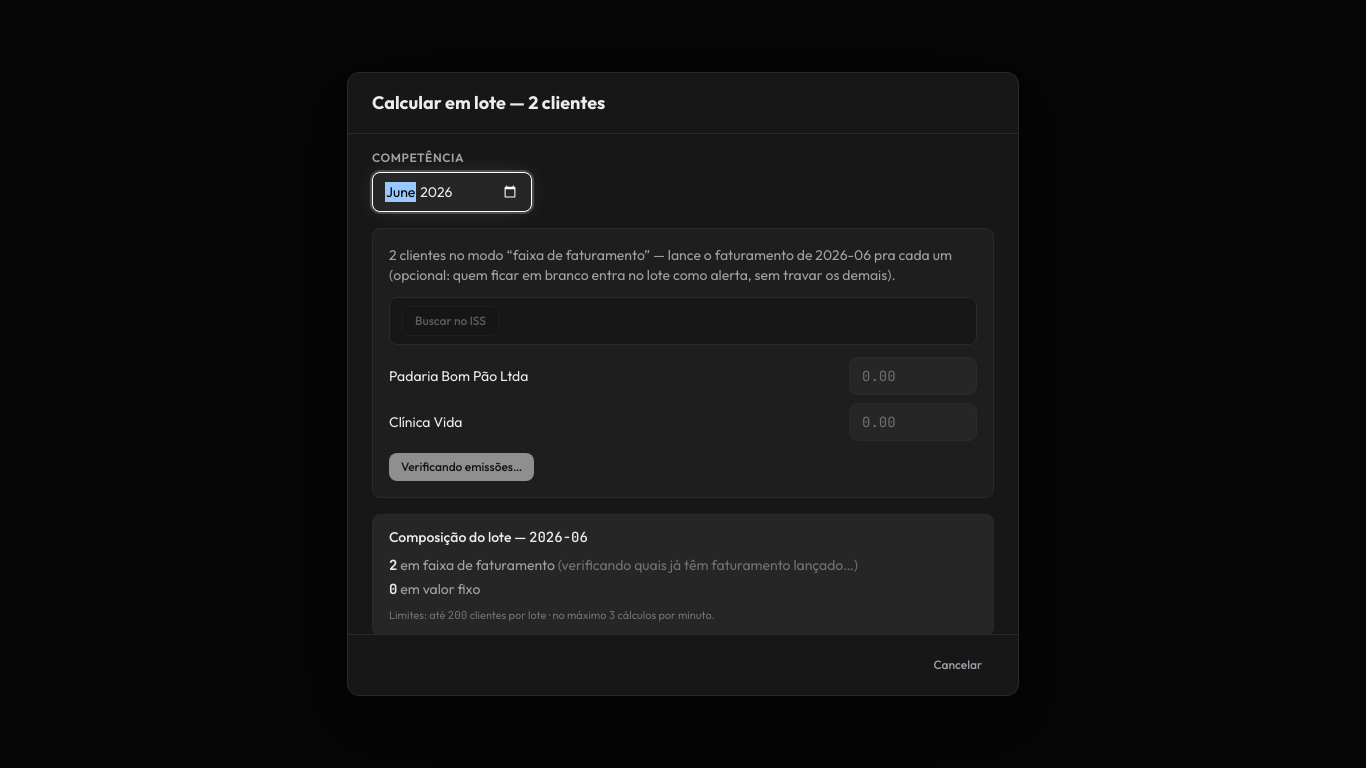
Scenario: LoteContabilidadeDialog — lançamento de faturamento em massa (Story 12.4) › AC 1: com pelo menos um lançamento OK o passo avança (sem regressão no caminho feliz)
Type "4500" into the number field with placeholder "0.00" in the row of "Padaria Bom Pão Ltda". click: (913, 376)
box: [849,357,977,395]
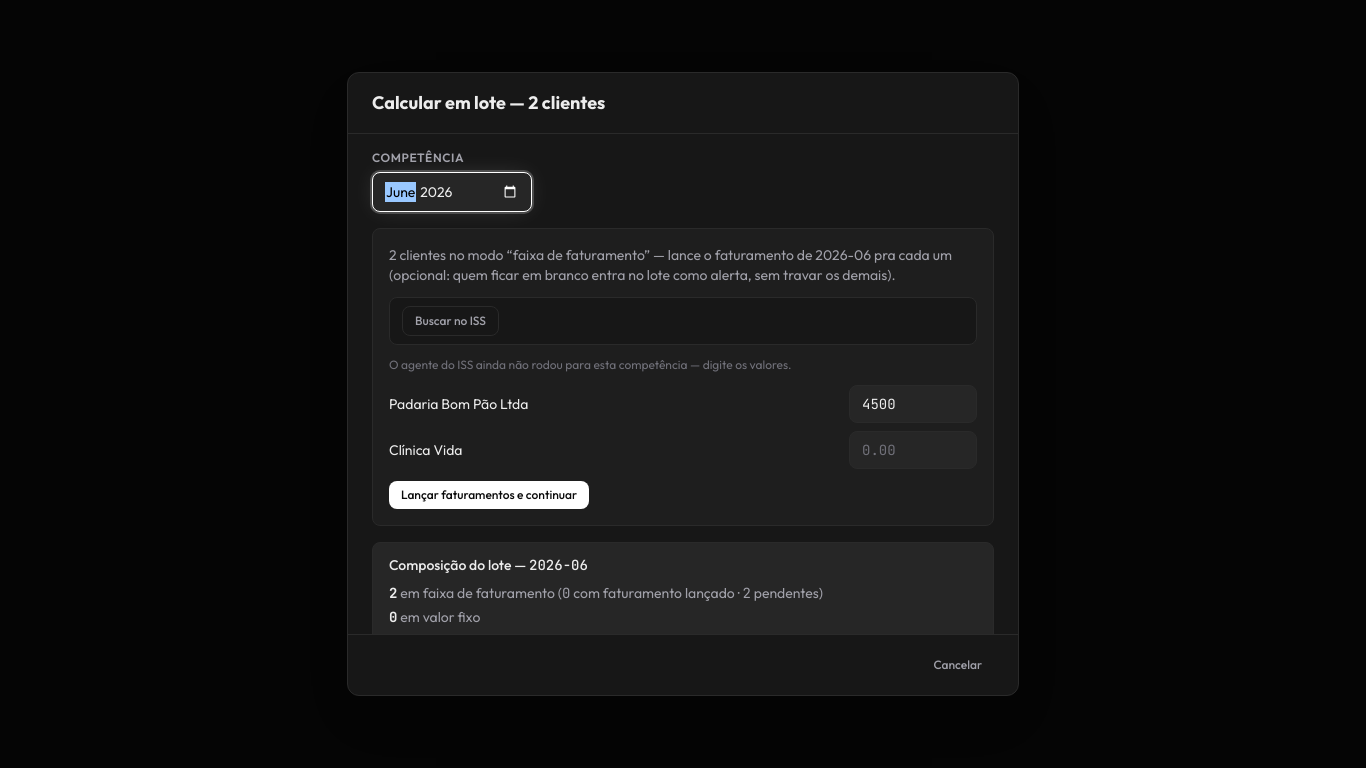
Type "9000" into the number field with placeholder "0.00". click: (913, 450)
box: [849,431,977,469]
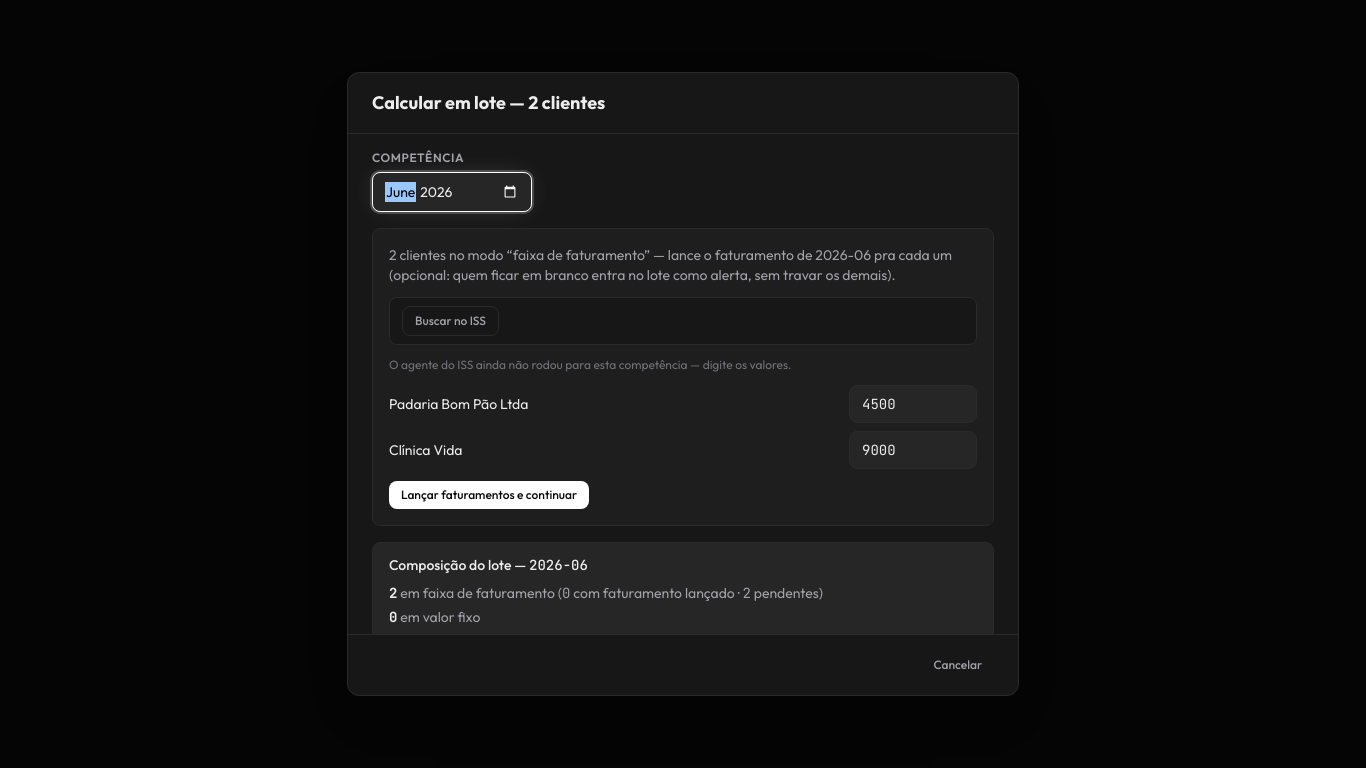
Expected: the button "Lançar faturamentos e continuar" is enabled
Click the button "Lançar faturamentos e continuar". click: (489, 495)
box: [389,481,589,509]
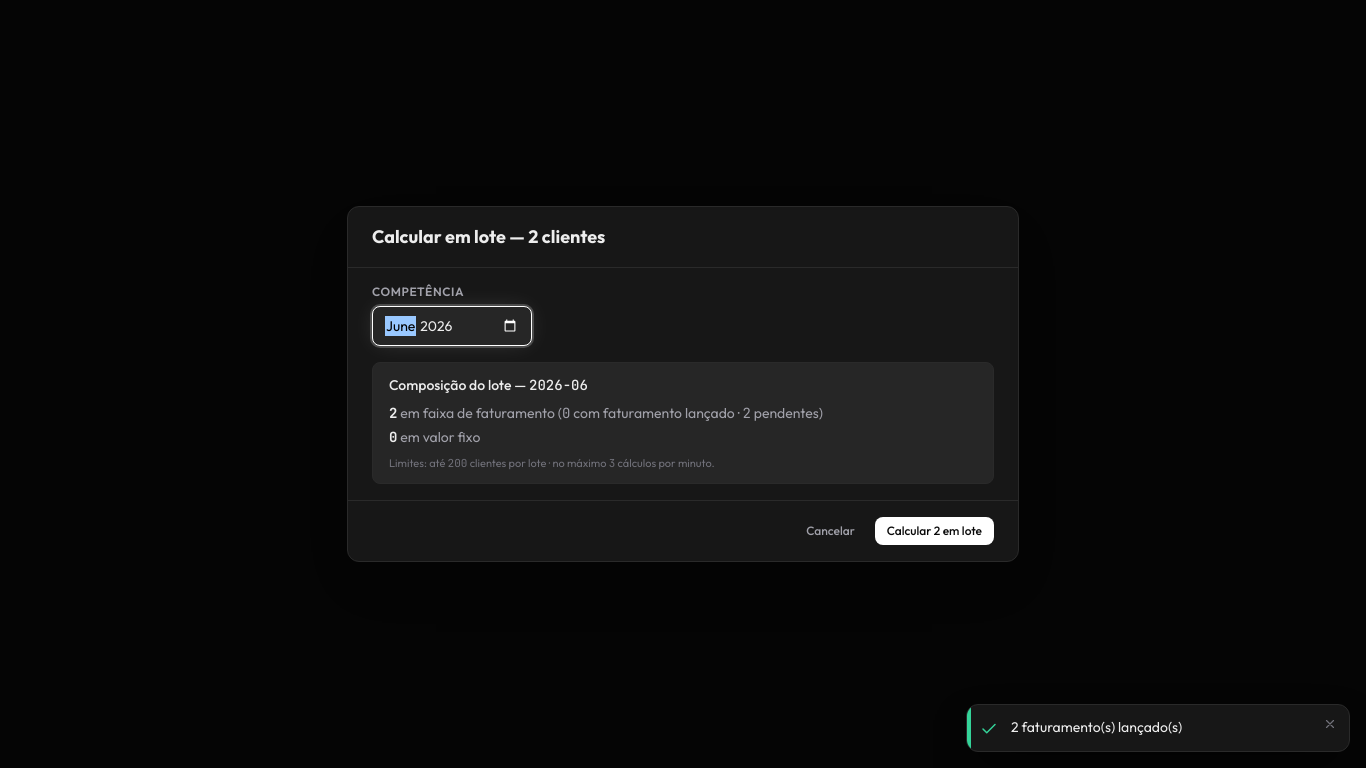
Expected: the button "Calcular 2 em lote" is shown, [875,517,994,545]
